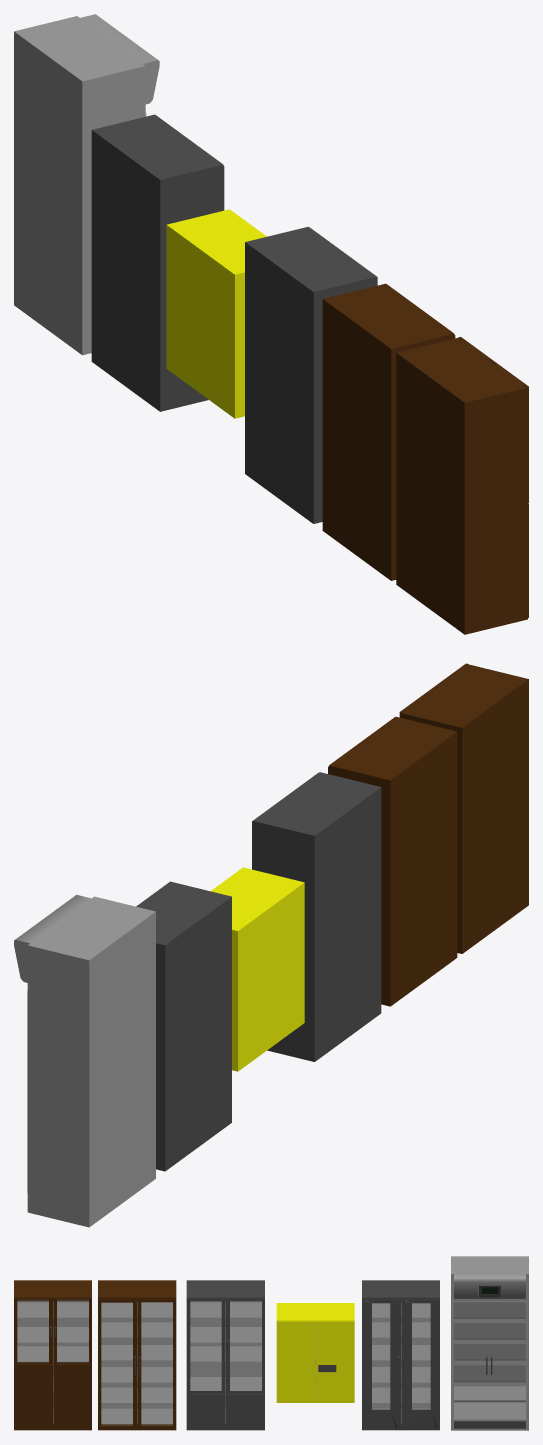
3 views of the same model, one above another, from view 1: azimuth 30°, elevation 25°; view 2: azimuth 150°, elevation 25°; view 3: azimuth 270°, elevation 25° (orthographic). The views are drawn at different scales.
Parts seen in each view (by area): view 1: Base.003_10, Base.005_24, Base.004_20, Base_0, Base.002_6, Base.001_16; view 2: Base.005_24, Base_0, Base.002_6, Base.003_10, Base.004_20, Base.001_16; view 3: Base.005_24, Base.002_6, Base_0, Base.003_10, Base.004_20, Door Glass.002_7, Door Glass.003_8, Door Glass.006_21, Door Glass.007_22, Door Fridge_25, Door Fridge.001_26, Door Glass.001_2 (+10 smaller).
Part boxes in pixels (x1,y1,x2,y2): Base.003_10: (396, 338, 527, 634); Base.005_24: (14, 14, 159, 355); Base.004_20: (91, 114, 223, 411); Base_0: (245, 226, 376, 523); Base.002_6: (322, 283, 454, 580); Base.001_16: (166, 209, 266, 418); Base.005_24: (14, 894, 155, 1227); Base_0: (253, 772, 381, 1061); Base.002_6: (329, 716, 457, 1006); Base.003_10: (400, 664, 528, 953); Base.004_20: (136, 881, 231, 1171); Base.001_16: (211, 867, 304, 1071); Base.005_24: (451, 1256, 528, 1430); Base.002_6: (98, 1280, 176, 1429); Base_0: (186, 1280, 264, 1429); Base.003_10: (14, 1280, 91, 1430); Base.004_20: (362, 1280, 439, 1429); Door Glass.002_7: (98, 1299, 136, 1430); Door Glass.003_8: (137, 1299, 175, 1430); Door Glass.006_21: (362, 1299, 400, 1430); Door Glass.007_22: (401, 1299, 439, 1430); Door Fridge_25: (451, 1301, 489, 1419); Door Fridge.001_26: (490, 1301, 528, 1419); Door Glass.001_2: (187, 1298, 225, 1393).
Bounding box in the file's own units: 2.72 × 8.9 × 26.56.
